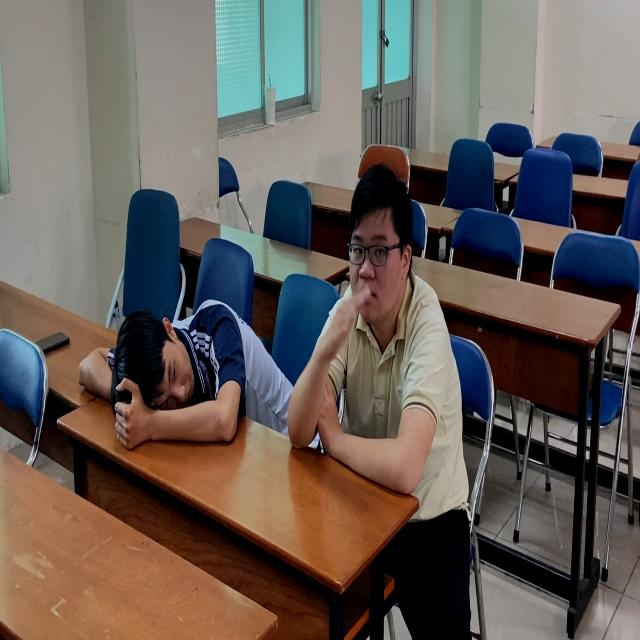sleep: (105, 283, 290, 455)
